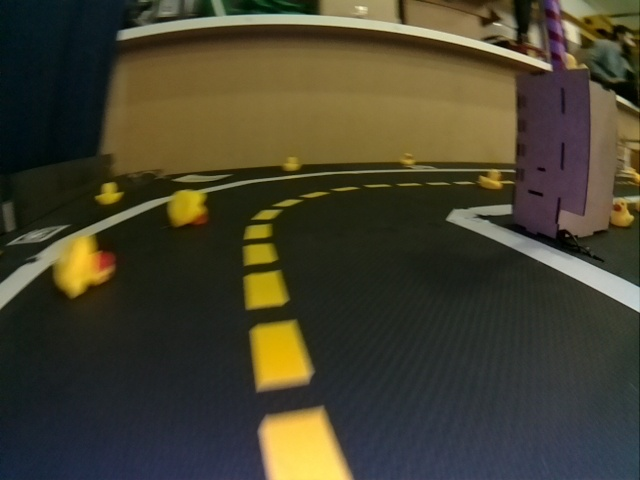Duckie: (56, 236, 115, 298), (168, 190, 209, 227), (97, 182, 123, 205), (611, 201, 632, 227), (478, 170, 502, 189), (285, 156, 298, 169), (402, 154, 412, 165)
QR code: (7, 224, 63, 243)
